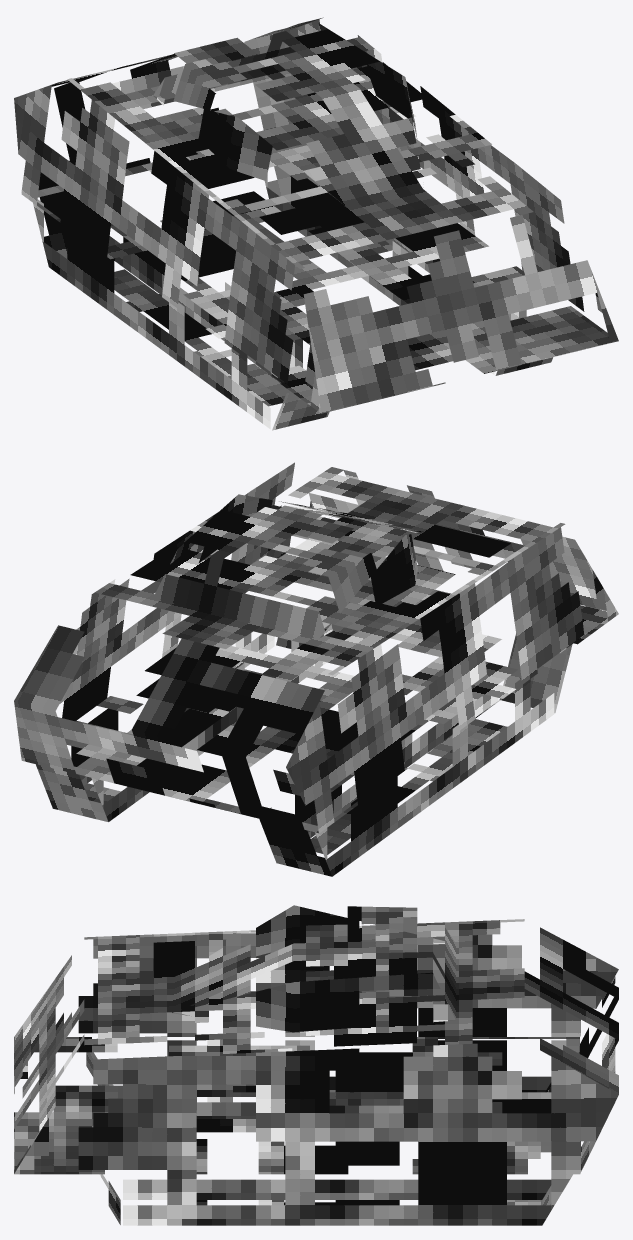
The model's file is apc_wreck.glb.
3 renders of one model, top to bottom at view 1: azimuth 30°, elevation 25°; view 2: azimuth 150°, elevation 25°; view 3: azimuth 270°, elevation 25°, orthographic. The views are drawn at different scales.
Parts seen in each view (by area): view 1: APC_L1; view 2: APC_L1; view 3: APC_L1.
Part boxes in pixels (left/top/right/bottom): APC_L1: left=14, top=17, right=618, bottom=430; APC_L1: left=14, top=462, right=618, bottom=876; APC_L1: left=14, top=905, right=618, bottom=1225.
Size of the model in its own units: 3.38 by 2.55 by 6.29.
1 material, 1 textured.
